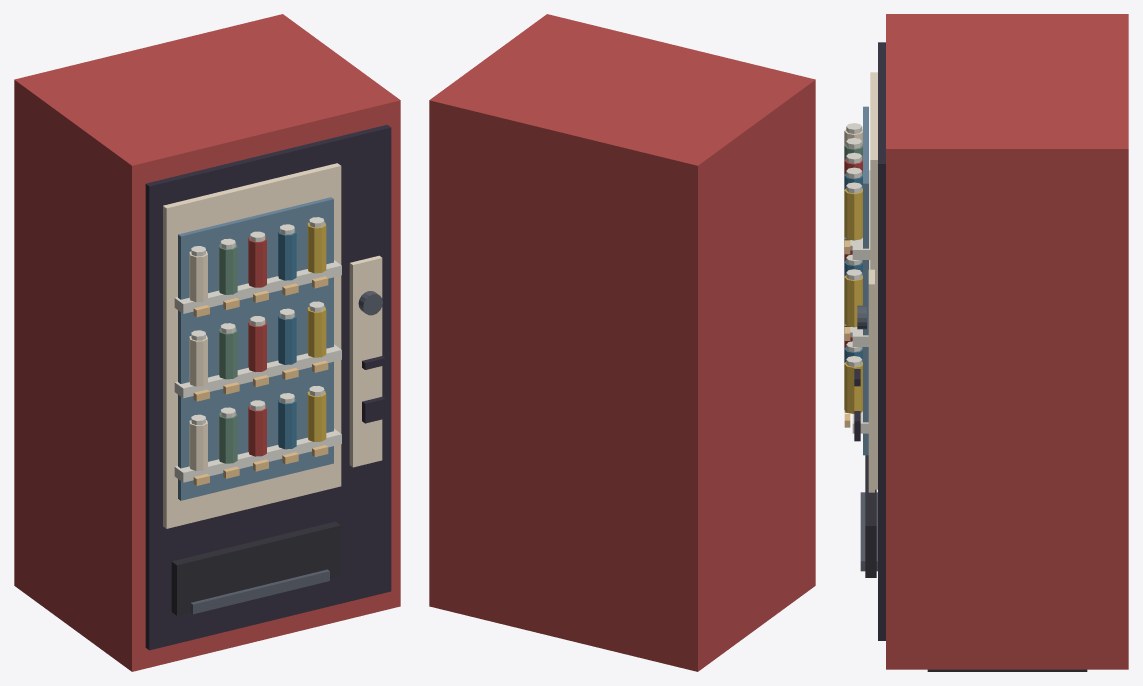
The model's file is SM_VendingMachine.fbx.
3 renders of one model, left to right at view 1: azimuth 30°, elevation 25°; view 2: azimuth 150°, elevation 25°; view 3: azimuth 270°, elevation 25°, orthographic. The views are drawn at different scales.
Parts seen in each view (by area): view 1: SM_VendingMachine; view 2: SM_VendingMachine; view 3: SM_VendingMachine.
Part boxes in pixels (x1,y1,x2,y2): SM_VendingMachine: [14, 14, 400, 671]; SM_VendingMachine: [429, 14, 815, 671]; SM_VendingMachine: [844, 14, 1128, 671].
Bounding box in the file's own units: 1 × 0.891 × 1.86.
